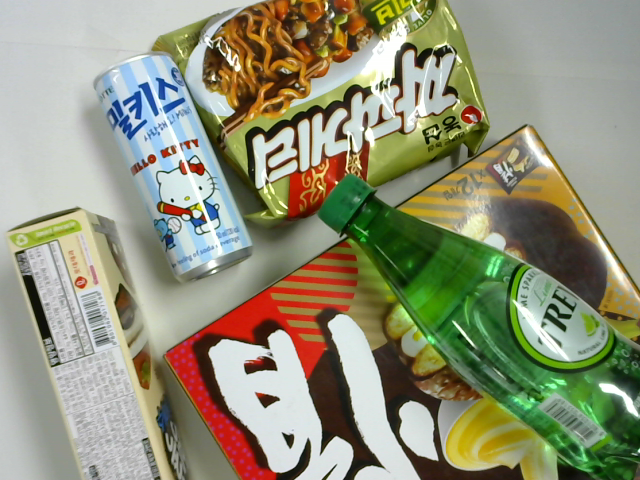Chicchok_Tiramisu: (6, 205, 193, 480)
Choco_Pie_Banana: (162, 125, 639, 480)
Milkies_250ml: (93, 50, 253, 285)
Olive_Chapaghetti: (148, 1, 490, 227)
Treviraim_500ml: (316, 176, 640, 479)
